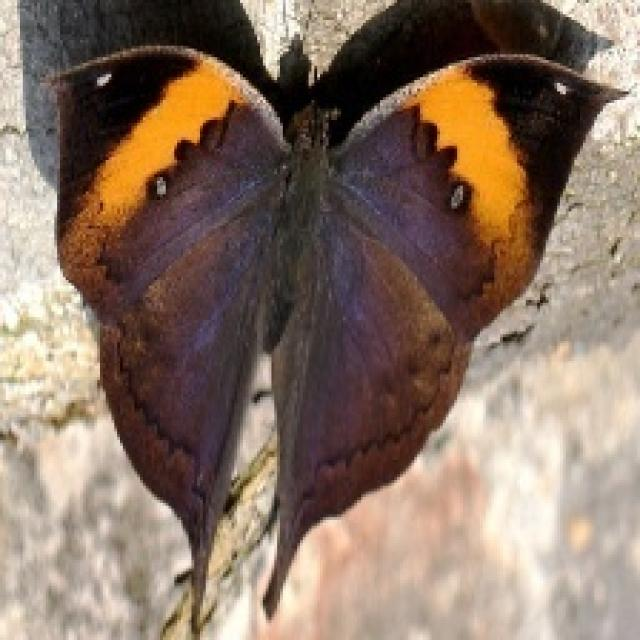butterfly: (46, 53, 628, 632)
